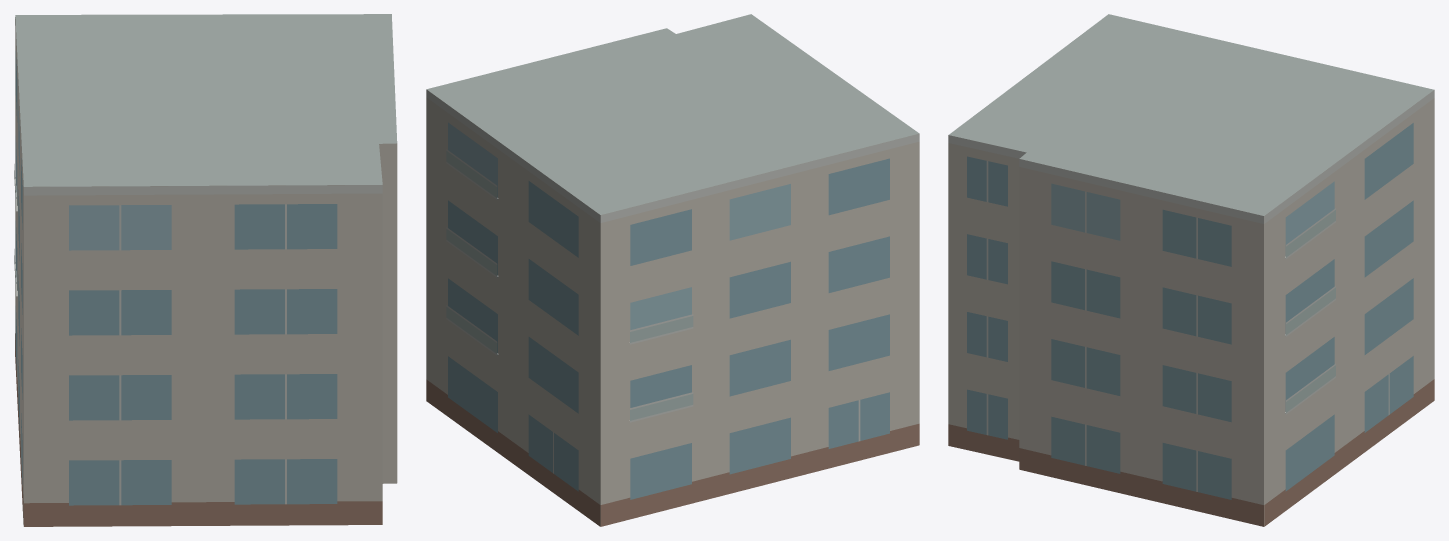
File: survey-upis-32824192.glb
3 views of the same model, side by side, from view 1: azimuth 30°, elevation 25°; view 2: azimuth 150°, elevation 25°; view 3: azimuth 270°, elevation 25° (orthographic). The views are drawn at different scales.
Parts seen in each view (by area): view 1: survey-upis-32824192.tmp; view 2: survey-upis-32824192.tmp; view 3: survey-upis-32824192.tmp.
Part boxes in pixels (x1=…): survey-upis-32824192.tmp: x1=14, y1=14, x2=397, y2=526; survey-upis-32824192.tmp: x1=426, y1=14, x2=919, y2=526; survey-upis-32824192.tmp: x1=948, y1=14, x2=1434, y2=526.
Bounding box in the file's own units: 13.26 × 9.5 × 13.48.
